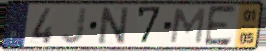4: (30, 6, 55, 45)
7: (136, 6, 162, 47)
E: (202, 4, 238, 48)
J: (59, 6, 90, 45)
M: (168, 7, 208, 45)
N: (97, 5, 131, 46)
